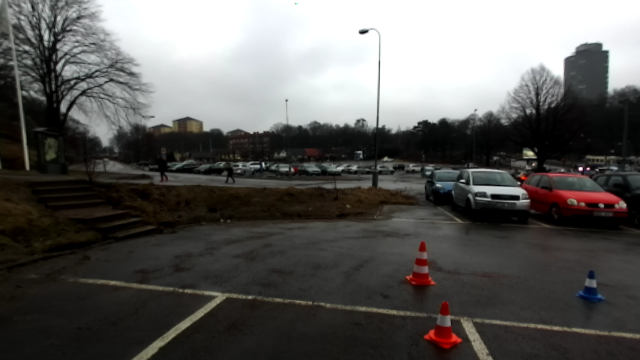blue: (578, 269, 604, 303)
orange: (424, 301, 463, 349)
orange2: (404, 240, 436, 286)
